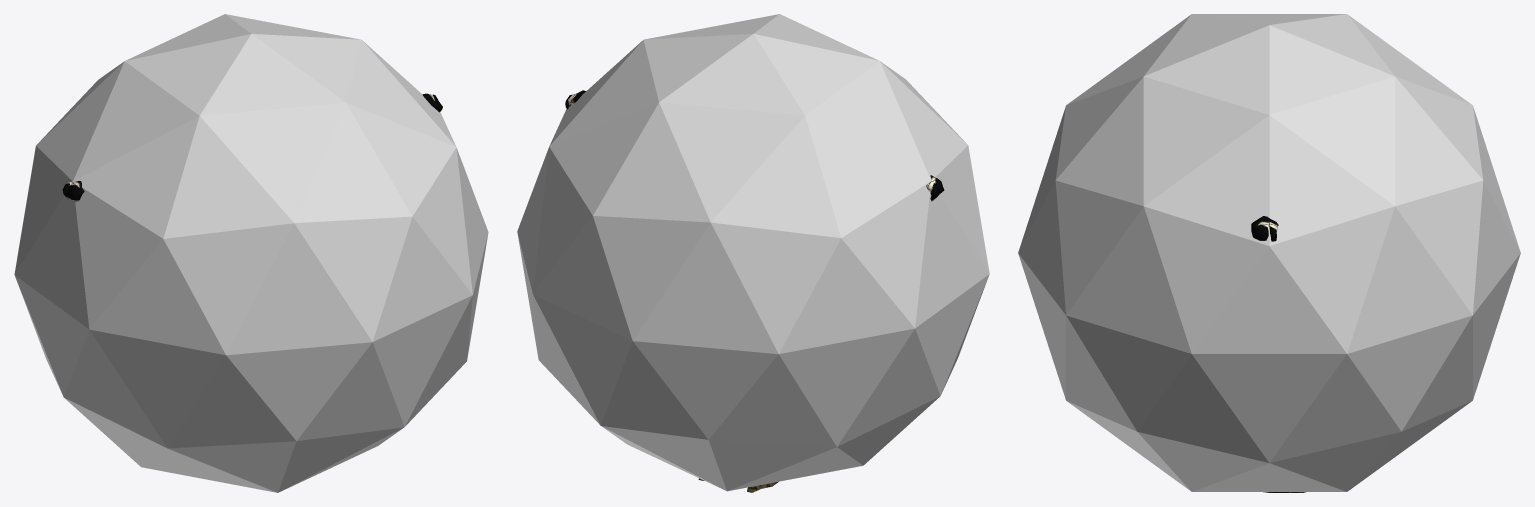
Rendered from armored_zombie.fbx.
The picture shows the model from 3 angles, left to right: view 1: azimuth 30°, elevation 25°; view 2: azimuth 150°, elevation 25°; view 3: azimuth 270°, elevation 25°; orthographic projection. The views are drawn at different scales.
Parts seen in each view (by area): view 1: Icosphere, Arms__ln_gothic_arms_03; view 2: Icosphere; view 3: Icosphere, Arms__ln_gothic_arms_03.
Boxes of the visible parts, left/top/right/bottom form: Icosphere: left=14, top=14, right=488, bottom=492; Arms__ln_gothic_arms_03: left=62, top=93, right=442, bottom=201; Icosphere: left=517, top=14, right=989, bottom=491; Icosphere: left=1018, top=14, right=1520, bottom=491; Arms__ln_gothic_arms_03: left=1251, top=216, right=1278, bottom=241.
Bounding box in the file's own units: 190 × 200 × 200.
